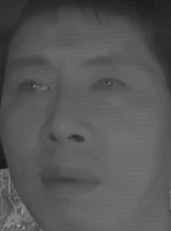eye: (88, 72, 127, 97), (13, 75, 52, 99)
mouth: (38, 159, 103, 199)
